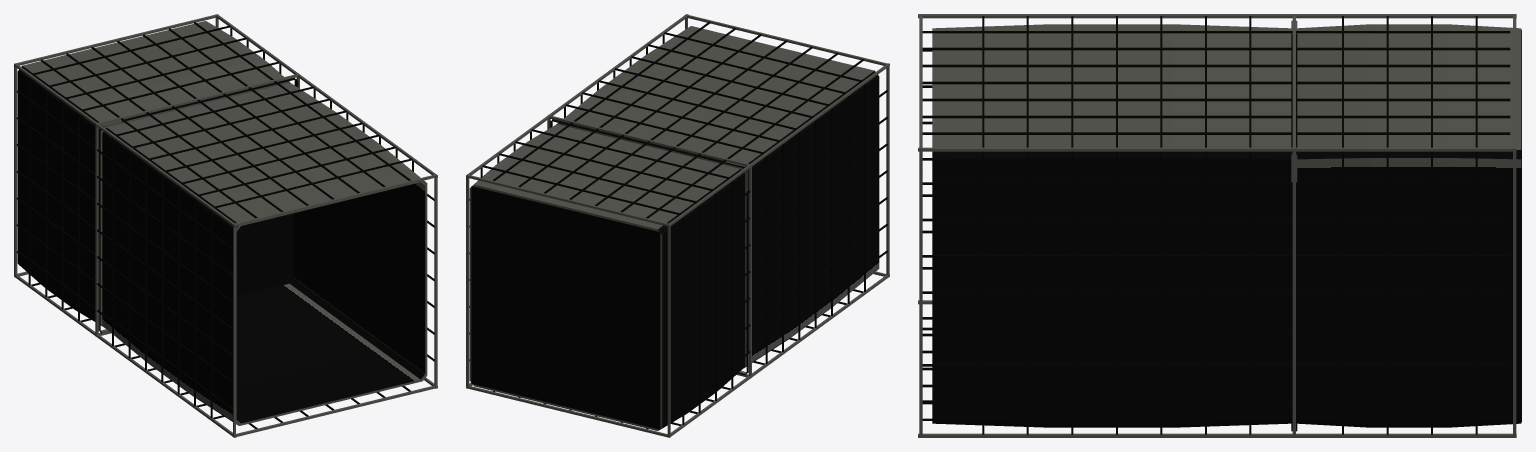
The picture shows the model from 3 angles, left to right: view 1: azimuth 30°, elevation 25°; view 2: azimuth 150°, elevation 25°; view 3: azimuth 270°, elevation 25°; orthographic projection. The views are drawn at different scales.
Bounding box in the file's own units: 0.896 × 0.896 × 1.69.
